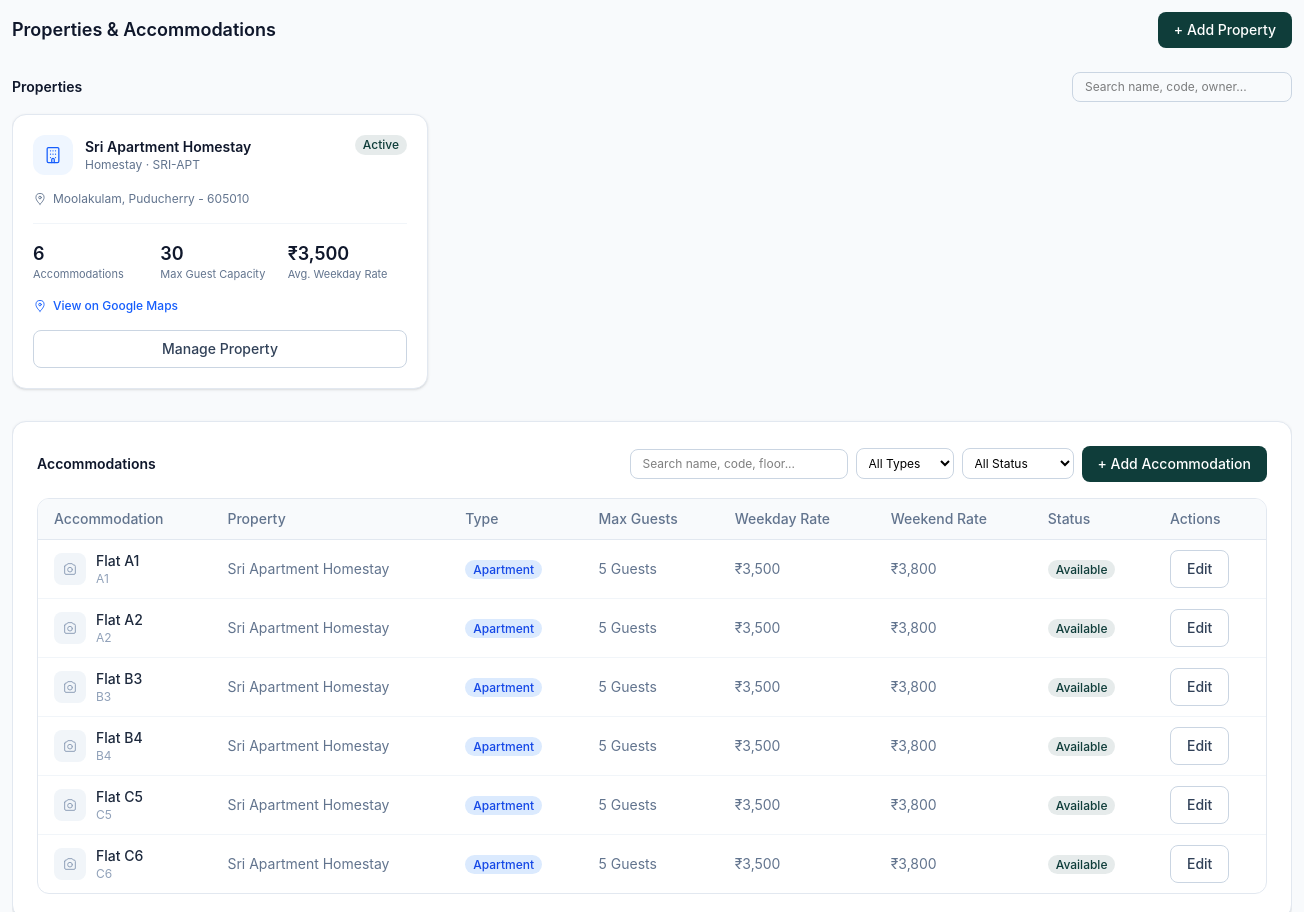
Test: PropertiesPage — UI polish › the type/status filters still narrow the accommodation table
Expected: the text "Flat A1" is shown, [96,551,139,571]
Select "Maintenance" in the 2nd dropdown: (1018,464) [962,448,1074,479]
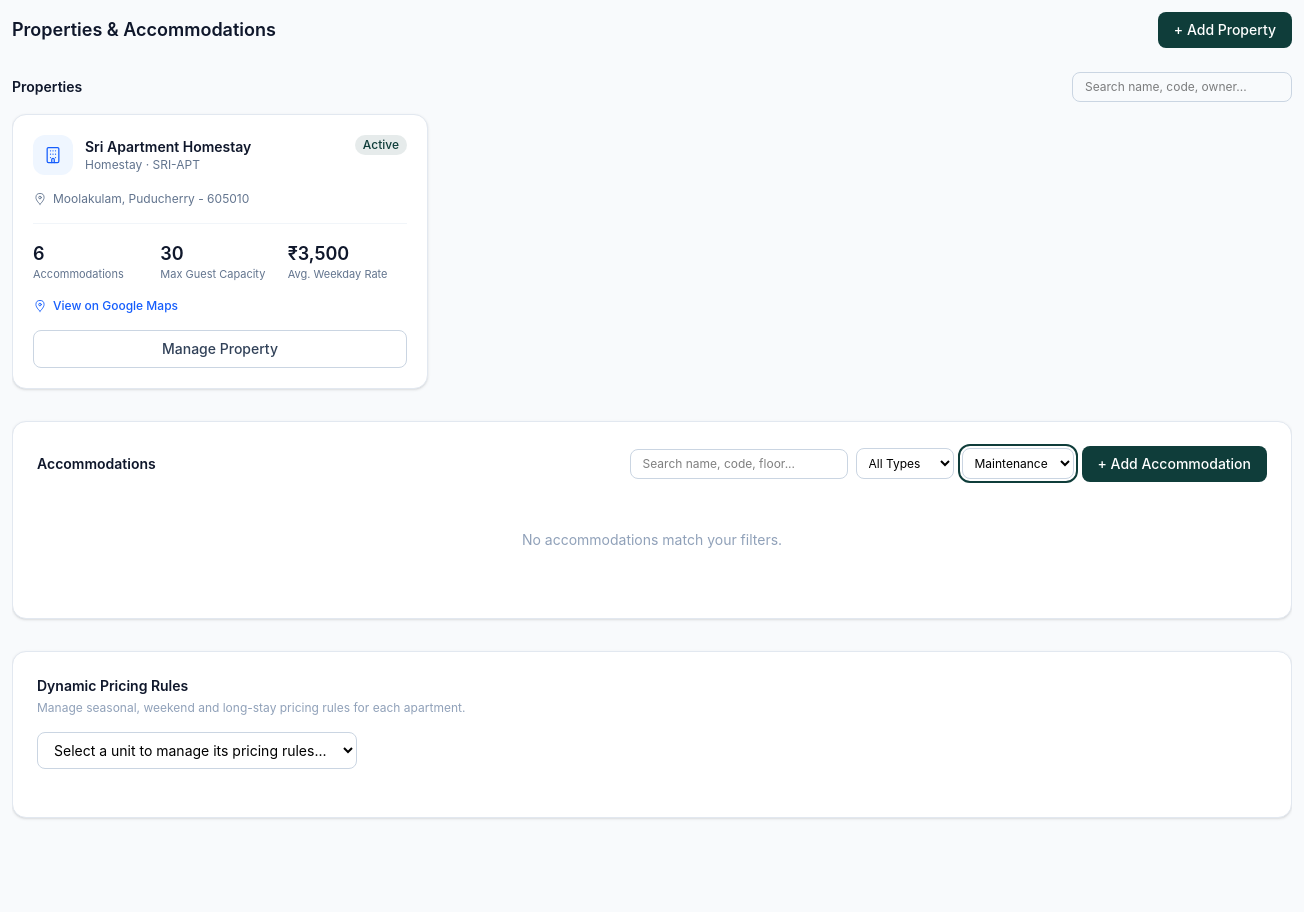
Expected: the text "Flat A1" is gone
